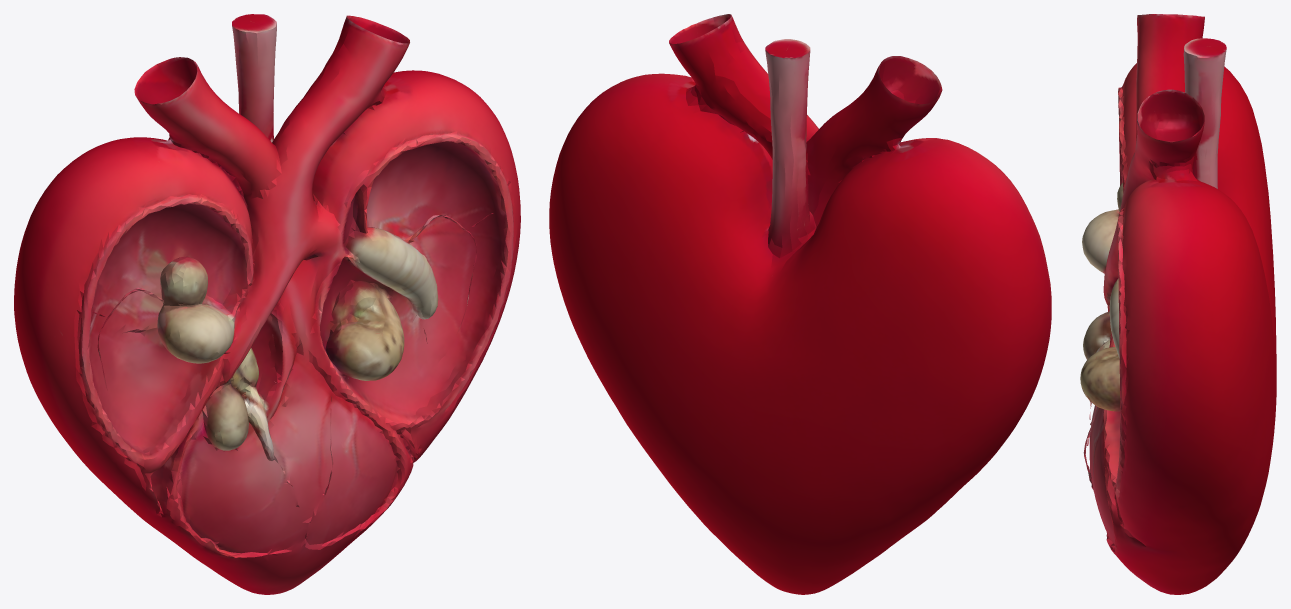
Rendered from heartworm.glb.
The picture shows the model from 3 angles, left to right: view 1: azimuth 30°, elevation 25°; view 2: azimuth 150°, elevation 25°; view 3: azimuth 270°, elevation 25°; orthographic projection. The views are drawn at different scales.
Visible parts, largest first — view 1: model; view 2: model; view 3: model.
Boxes of the visible parts, box(x1,y1,x2,y2) form: model: box(14, 14, 520, 594); model: box(549, 14, 1051, 594); model: box(1080, 14, 1276, 594).
Size of the model in its own units: 1.74 by 1.9 by 0.6232.
1 material, 1 textured.
